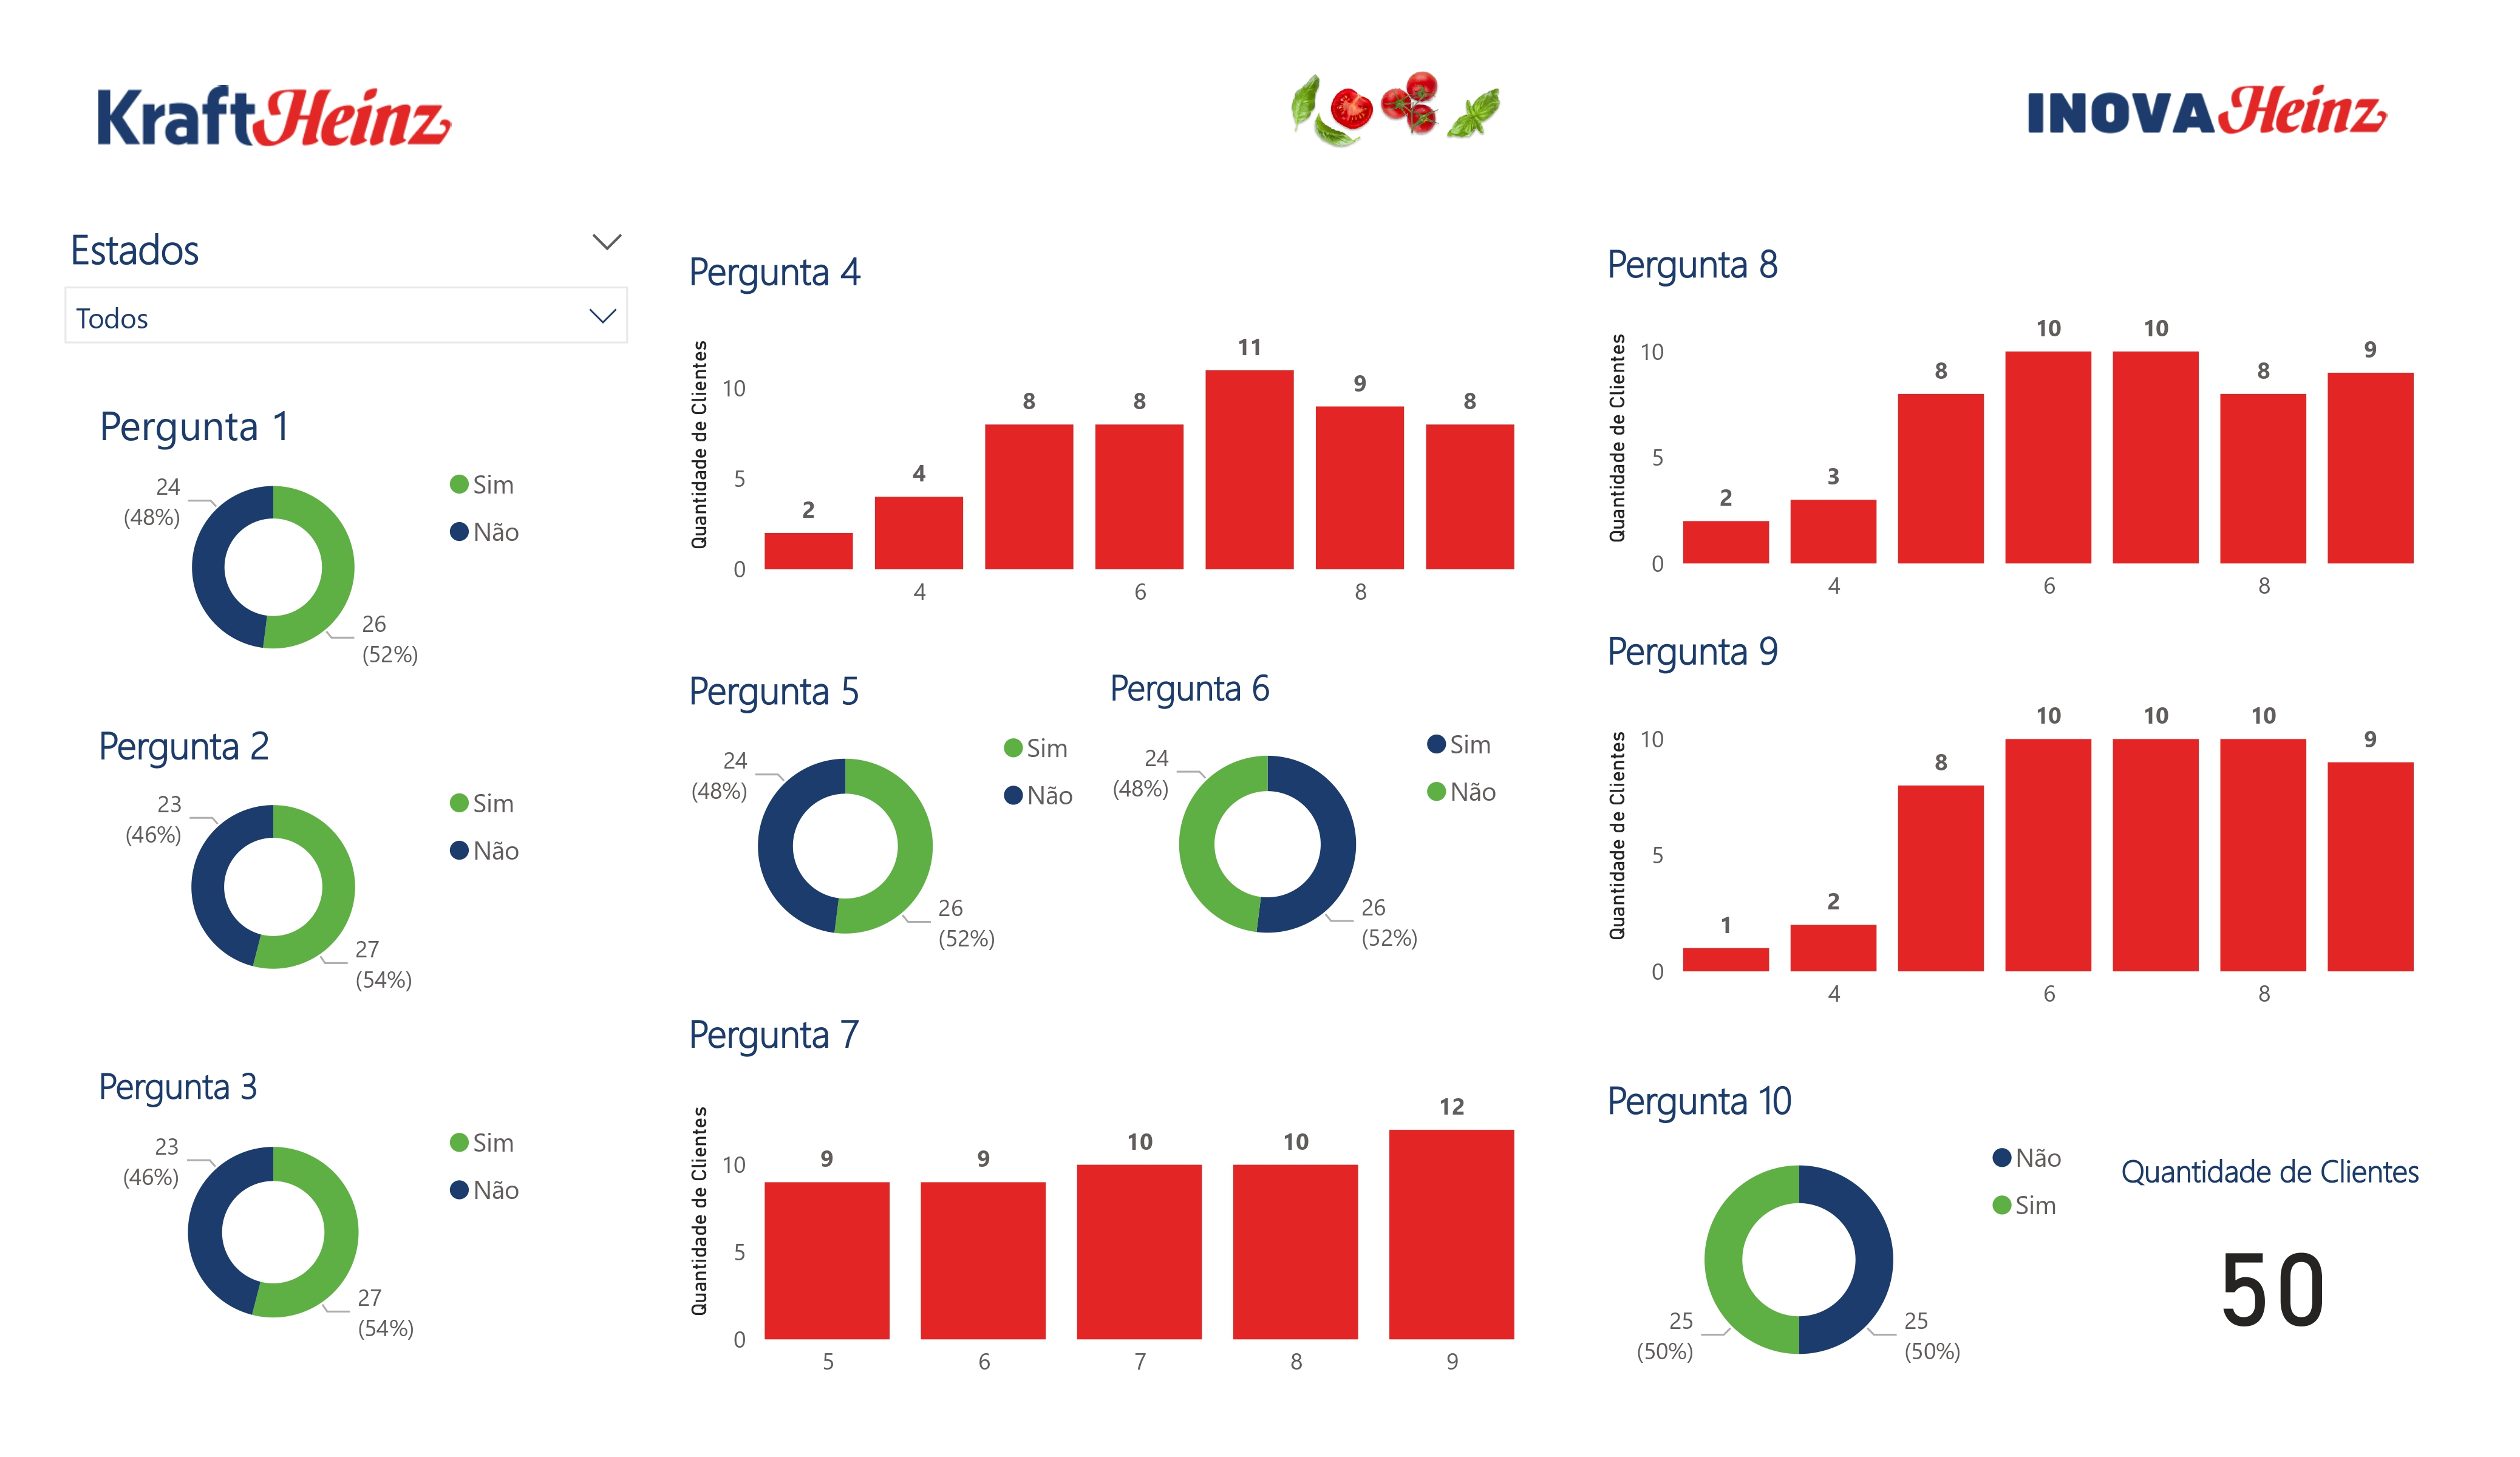

The dashboard page shown, as its layout file describes it:
{"tool":"powerbi","page":{"name":"Página 1","canvas":[1280,720],"ordinal":0},"visuals":[{"type":"card","title":"Quantidade de Clientes","fields":{"Values":["Planilha1.quantidadeclientes"]},"box":[1065.2,582.1,214.8,112.9],"z":0},{"type":"donutChart","title":"Pergunta 1","fields":{"Y":["Planilha1.quantidadeclientes"],"Category":["Planilha1.1. Você considera os produtosHeinz de fácil reciclagem?"]},"box":[22.8,185.1,241.5,151.5],"z":1000},{"type":"donutChart","title":"Pergunta 2","fields":{"Y":["Planilha1.quantidadeclientes"],"Category":["Planilha1.2. Você acredita que os ingredientes utilizados nos produtos da Heinz são sustentáveis e ecologicamente respon"]},"box":[22.8,354.4,241.5,151.5],"z":2000},{"type":"donutChart","title":"Pergunta 3","fields":{"Y":["Planilha1.quantidadeclientes"],"Category":["Planilha1.3. Você considera as embalagens da Heinz eco-friendly (biodegradáveis, recicláveis)?"]},"box":[22.8,534.6,241.5,156.4],"z":3000},{"type":"clusteredColumnChart","title":"Pergunta 4","fields":{"Y":["Planilha1.quantidadeclientes"],"Category":["Planilha1.4. O quão eficaz você considera que a Kraft Heinz é em oferecer produtos com reduzido impacto ambiental e anim"]},"box":[333.6,103.9,445.5,201.9],"z":4000},{"type":"slicer","fields":{"Values":["Planilha1.Estados"]},"box":[0,87.1,316.8,77.2],"z":5000},{"type":"donutChart","title":"Pergunta 5","fields":{"Y":["Planilha1.quantidadeclientes"],"Category":["Planilha1.5. Você considera os produtos da Heinz como nutricionalmente benéficos?"]},"box":[333.6,324.7,222.7,167.3],"z":6000},{"type":"donutChart","title":"Pergunta 6","fields":{"Y":["Planilha1.quantidadeclientes"],"Category":["Planilha1.6. Os produtos da Kraft Heinz atendem às suas expectativas em termos de impacto na saúde e bem-estar do consum"]},"box":[556.3,324.7,222.7,167.3],"z":7000},{"type":"clusteredColumnChart","title":"Pergunta 7","fields":{"Y":["Planilha1.quantidadeclientes"],"Category":["Planilha1.7. Quão importante é para você que a Kraft Heinz promova ações em comunidades locais/fragilizadas? (0 a 10)"]},"box":[333.6,505.9,445.5,205.9],"z":8000},{"type":"clusteredColumnChart","title":"Pergunta 8","fields":{"Y":["Planilha1.quantidadeclientes"],"Category":["Planilha1.8. Quão diversificada você acha que é a linha de produtos Heinz (considerando diabéticos, pessoas com restriçõ"]},"box":[817.7,100,435.6,202.9],"z":9000},{"type":"clusteredColumnChart","title":"Pergunta 9","fields":{"Y":["Planilha1.quantidadeclientes"],"Category":["Planilha1.9. Quão transparente você acha que a Kraft Heinz é em relação às práticas de governança corporativa, regras de"]},"box":[817.7,303.9,435.6,213.8],"z":10000},{"type":"donutChart","title":"Pergunta 10","fields":{"Y":["Planilha1.quantidadeclientes"],"Category":["Planilha1.10. Você considera a empresa da Heinz como inclusiva e aberta às minorias?"]},"box":[817.7,540.5,259.4,171.3],"z":11000},{"type":"image","box":[1035.5,4.9,203.9,63.4],"z":12000},{"type":"image","box":[600.9,5,216.8,63.4],"z":13000},{"type":"image","box":[22.8,12.9,196,47.5],"z":14000}]}

Visuals, with their boxes on the page's 1280x720 design canvas (x1, y1, x2, y2). These are canvas units, not pixel positions in the 2520x1457 screenshot, which may show the page scaled, cropped or inside an application window:
"Quantidade de Clientes" card: bbox=(1065, 582, 1280, 695)
"Pergunta 1" donutChart: bbox=(23, 185, 264, 337)
"Pergunta 2" donutChart: bbox=(23, 354, 264, 506)
"Pergunta 3" donutChart: bbox=(23, 535, 264, 691)
"Pergunta 4" clusteredColumnChart: bbox=(334, 104, 779, 306)
slicer - Planilha1.Estados: bbox=(0, 87, 317, 164)
"Pergunta 5" donutChart: bbox=(334, 325, 556, 492)
"Pergunta 6" donutChart: bbox=(556, 325, 779, 492)
"Pergunta 7" clusteredColumnChart: bbox=(334, 506, 779, 712)
"Pergunta 8" clusteredColumnChart: bbox=(818, 100, 1253, 303)
"Pergunta 9" clusteredColumnChart: bbox=(818, 304, 1253, 518)
"Pergunta 10" donutChart: bbox=(818, 540, 1077, 712)
image: bbox=(1036, 5, 1239, 68)
image: bbox=(601, 5, 818, 68)
image: bbox=(23, 13, 219, 60)
